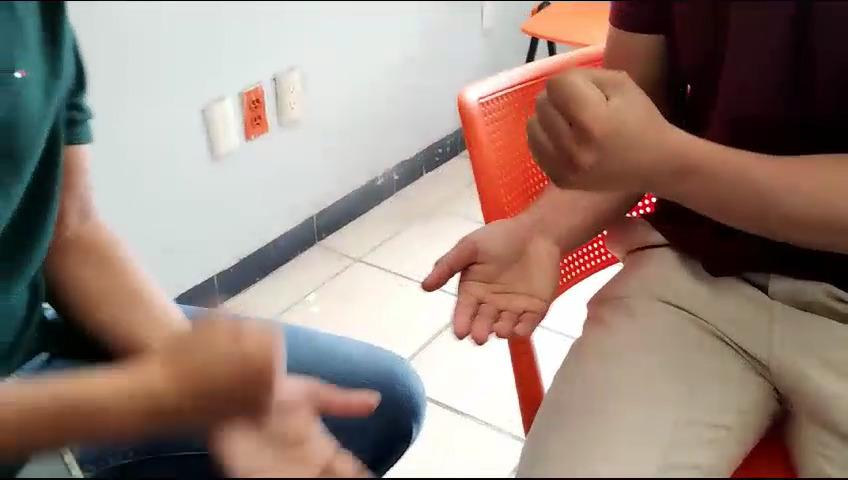Paper: (420, 218, 569, 351)
Stone: (517, 54, 675, 207)
